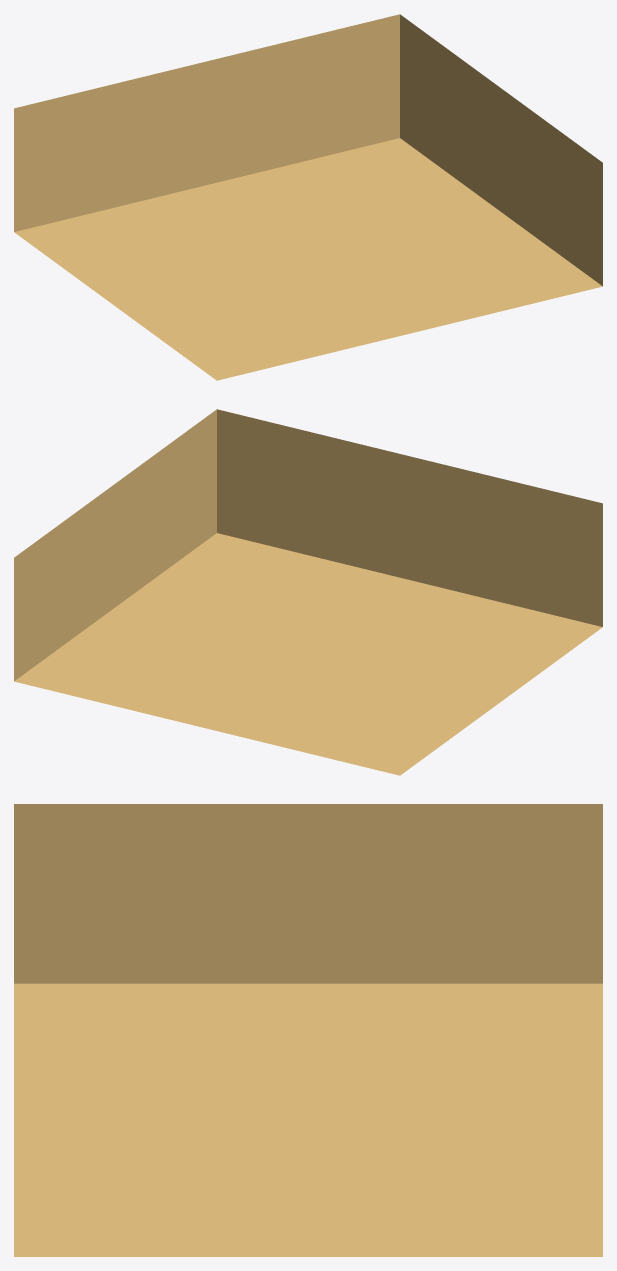
Rendered from templates-quantum-garden-023.glb.
3 views of the same model, one above another, from view 1: azimuth 30°, elevation 25°; view 2: azimuth 150°, elevation 25°; view 3: azimuth 270°, elevation 25° (orthographic). The views are drawn at different scales.
Parts seen in each view (by area): view 1: Quantum Garden Templates; view 2: Quantum Garden Templates; view 3: Quantum Garden Templates.
Boxes of the visible parts, x1=… form: Quantum Garden Templates: x1=14, y1=14, x2=602, y2=380; Quantum Garden Templates: x1=14, y1=409, x2=602, y2=775; Quantum Garden Templates: x1=14, y1=804, x2=602, y2=1256.
Size of the model in its own units: 4.7 by 1.44 by 4.28.
